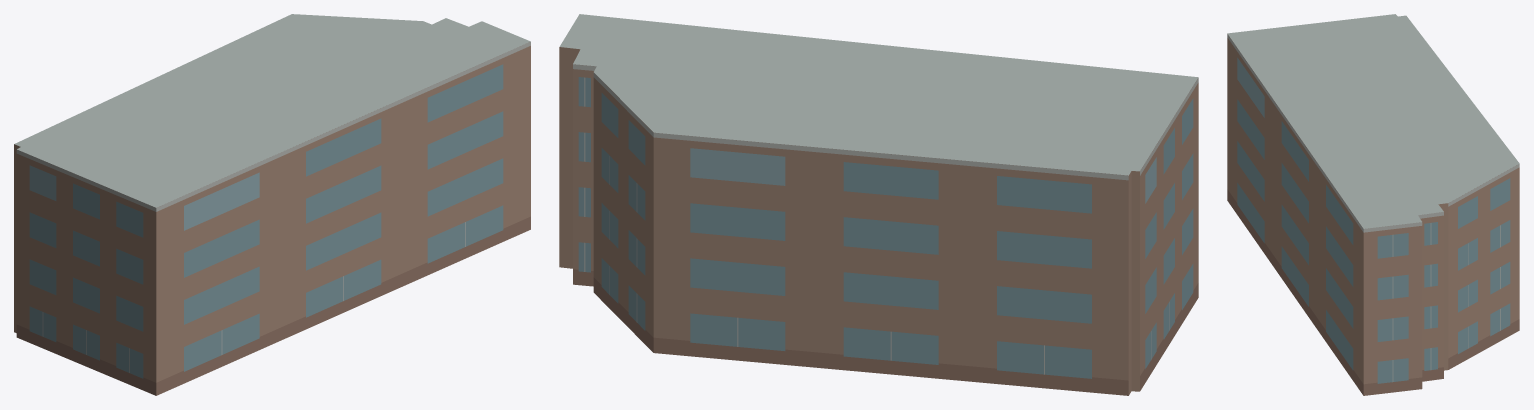
File: survey-upis-32721078.glb
3 renders of one model, left to right at view 1: azimuth 30°, elevation 25°; view 2: azimuth 150°, elevation 25°; view 3: azimuth 270°, elevation 25°, orthographic. The views are drawn at different scales.
Parts seen in each view (by area): view 1: survey-upis-32721078.tmp; view 2: survey-upis-32721078.tmp; view 3: survey-upis-32721078.tmp.
Part boxes in pixels (bbox=[...]): survey-upis-32721078.tmp: bbox=[14, 14, 530, 395]; survey-upis-32721078.tmp: bbox=[559, 14, 1198, 395]; survey-upis-32721078.tmp: bbox=[1227, 14, 1519, 395].
Size of the model in its own units: 30.52 by 11.05 by 17.55.
